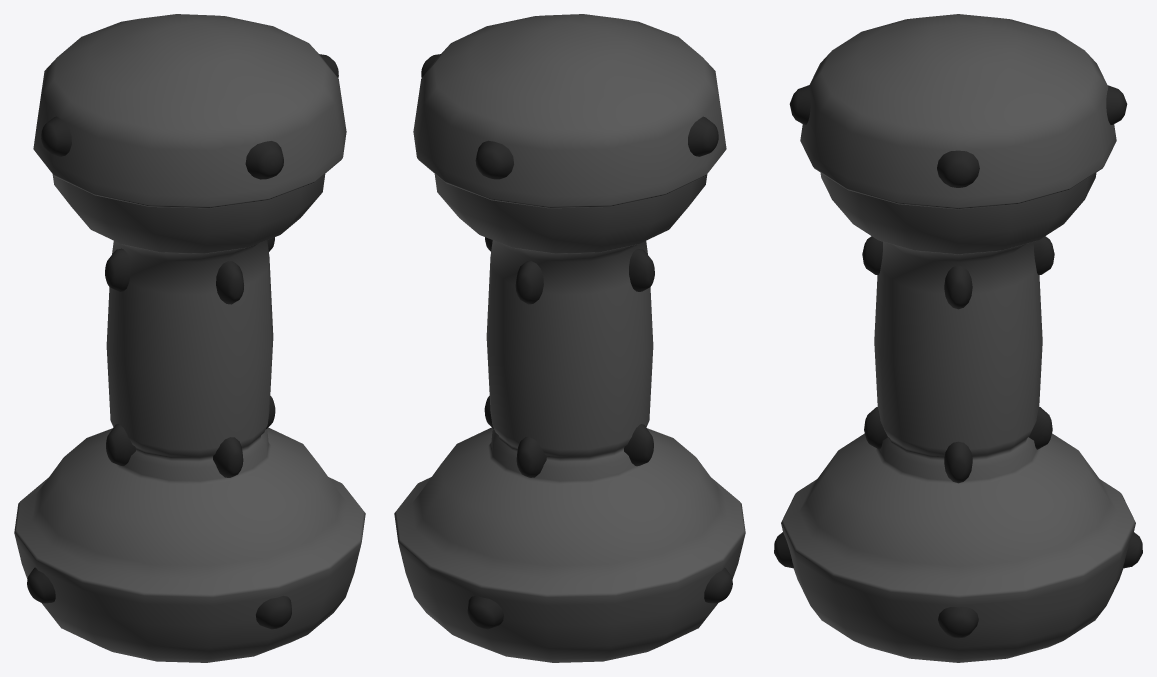
File: _objects_space_03.fbx
3 views of the same model, side by side, from view 1: azimuth 30°, elevation 25°; view 2: azimuth 150°, elevation 25°; view 3: azimuth 270°, elevation 25° (orthographic).
Parts seen in each view (by area): view 1: Оbjects_space_03; view 2: Оbjects_space_03; view 3: Оbjects_space_03.
Boxes of the visible parts, x1,y1,x2,y2 form: Оbjects_space_03: [14, 14, 365, 662]; Оbjects_space_03: [394, 14, 745, 662]; Оbjects_space_03: [774, 14, 1142, 662].
Size of the model in its own units: 64.01 by 115 by 64.01.
1 material, 1 textured.
